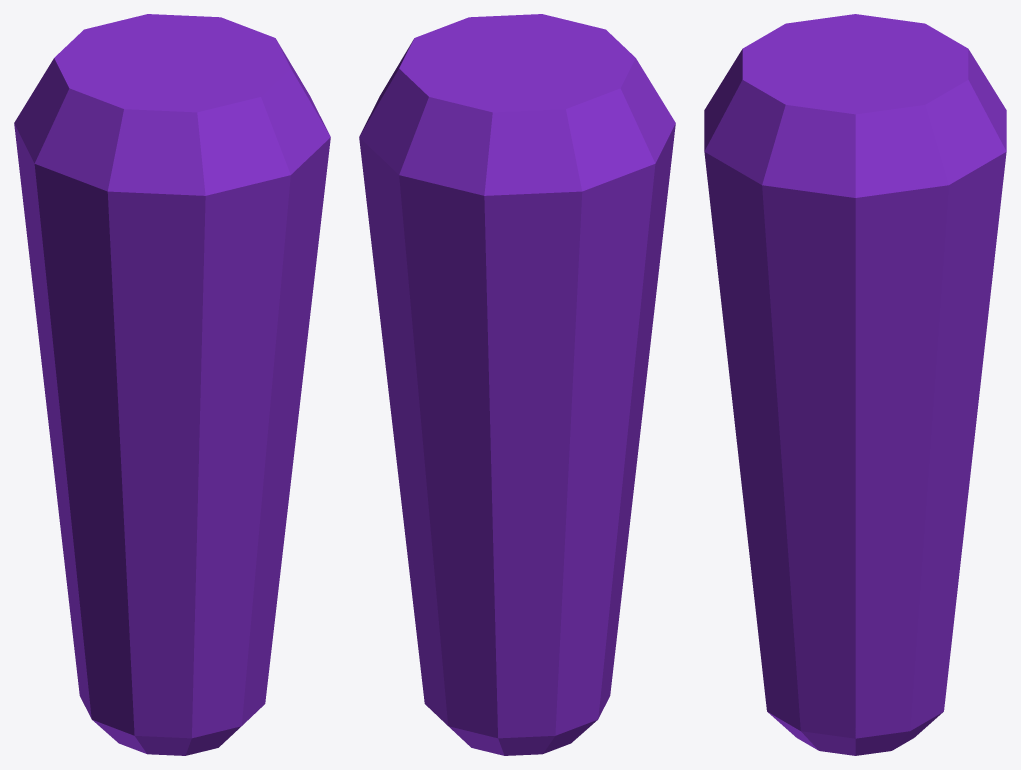
File: Jem_34.fbx
3 renders of one model, left to right at view 1: azimuth 30°, elevation 25°; view 2: azimuth 150°, elevation 25°; view 3: azimuth 270°, elevation 25°, orthographic.
Visible parts, largest first — view 1: Jem_34; view 2: Jem_34; view 3: Jem_34.
Boxes of the visible parts, x1,y1,x2,y2 form: Jem_34: (14,14,330,755); Jem_34: (359,14,675,755); Jem_34: (704,14,1006,755).
Bounding box in the file's own units: 40 × 92.45 × 38.04.
